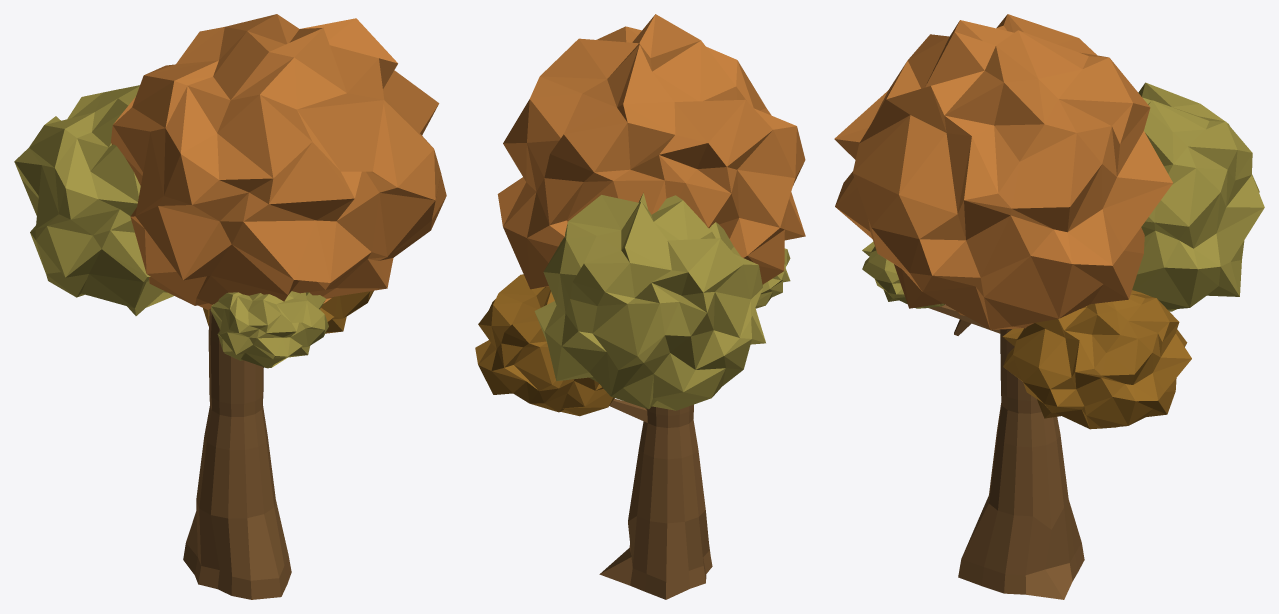
The model's file is Arbol_3.glb.
3 renders of one model, left to right at view 1: azimuth 30°, elevation 25°; view 2: azimuth 150°, elevation 25°; view 3: azimuth 270°, elevation 25°, orthographic. The views are drawn at different scales.
Visible parts, largest first — view 1: Icosphere.004, Icosphere.007, Cylinder.002, Icosphere.006, Icosphere.005; view 2: Icosphere.004, Icosphere.007, Cylinder.002, Icosphere.005, Icosphere.006; view 3: Icosphere.004, Icosphere.007, Icosphere.005, Cylinder.002, Icosphere.006.
Boxes of the visible parts, <box> form: Icosphere.004: <box>111,14,446,309</box>; Icosphere.007: <box>14,85,173,315</box>; Cylinder.002: <box>183,309,291,599</box>; Icosphere.006: <box>210,291,328,368</box>; Icosphere.005: <box>203,290,373,333</box>; Icosphere.004: <box>497,14,805,289</box>; Icosphere.007: <box>534,193,765,410</box>; Cylinder.002: <box>599,398,712,599</box>; Icosphere.005: <box>475,274,614,416</box>; Icosphere.006: <box>755,248,790,308</box>; Icosphere.004: <box>834,14,1172,329</box>; Icosphere.007: <box>1132,82,1264,311</box>; Icosphere.005: <box>1002,290,1191,429</box>; Cylinder.002: <box>929,305,1084,599</box>; Icosphere.006: <box>862,241,944,308</box>.
Bounding box in the file's own units: 6.87 × 11.65 × 8.04.
